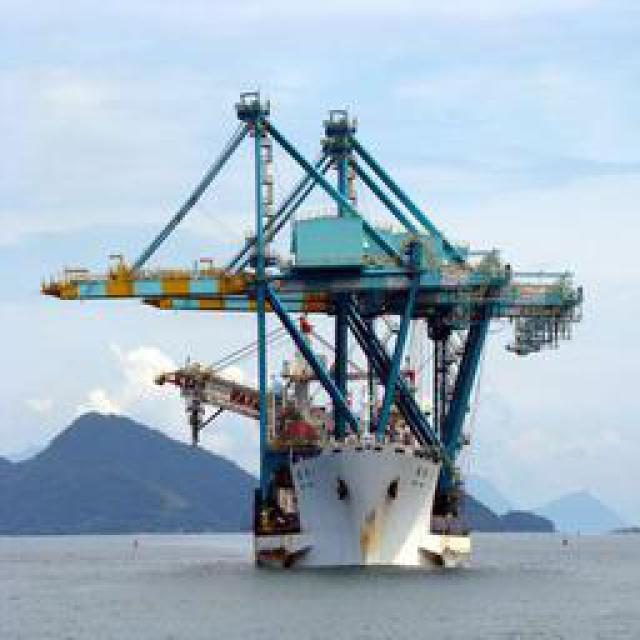Ship: (138, 106, 506, 576)
